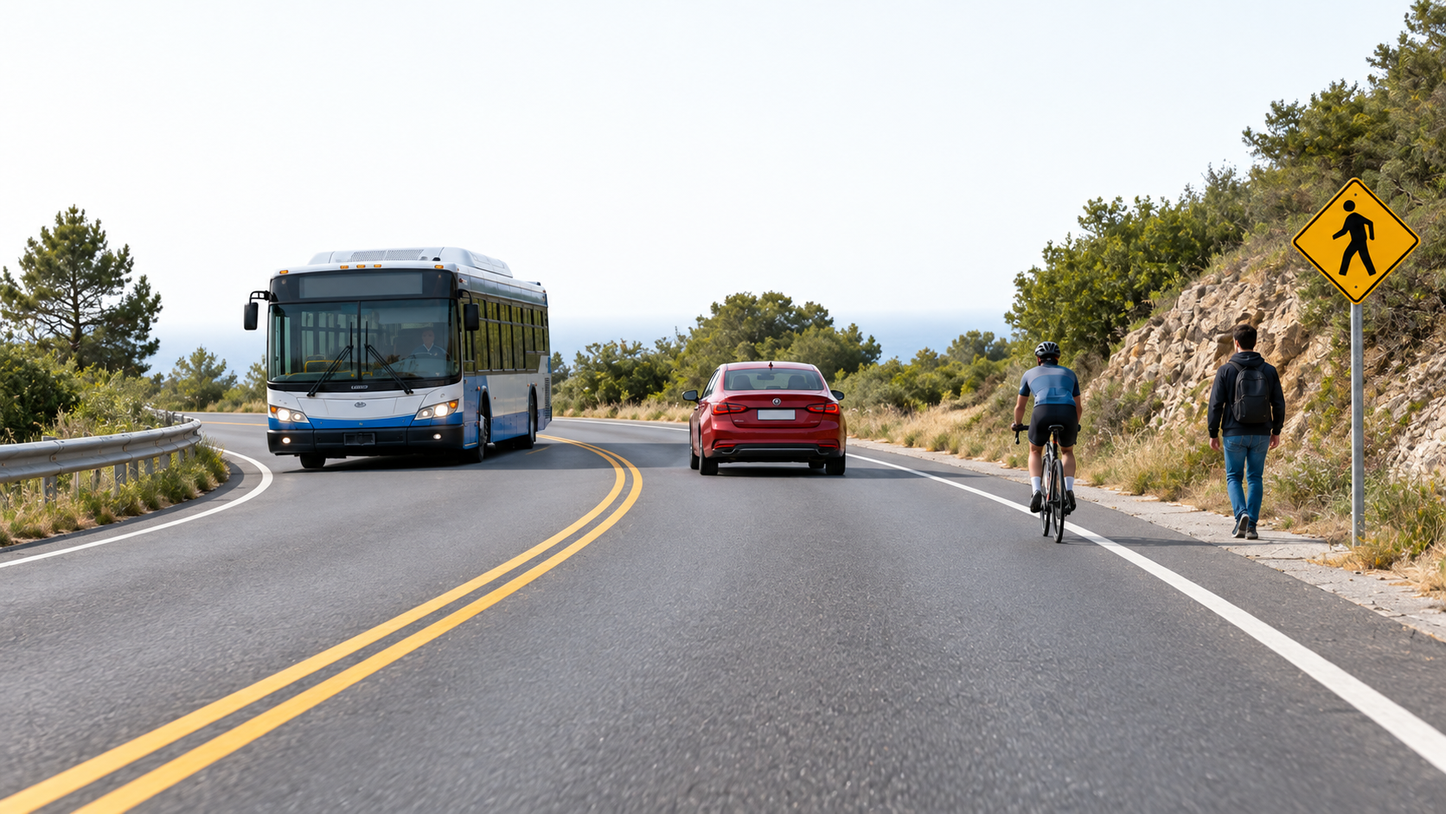bicycle: (1010, 379, 1079, 542)
bus: (243, 247, 553, 465)
car: (685, 361, 848, 476)
crossing_warning_sign: (1290, 177, 1423, 304)
person: (1208, 326, 1289, 539), (1010, 342, 1069, 516), (412, 324, 446, 371)
